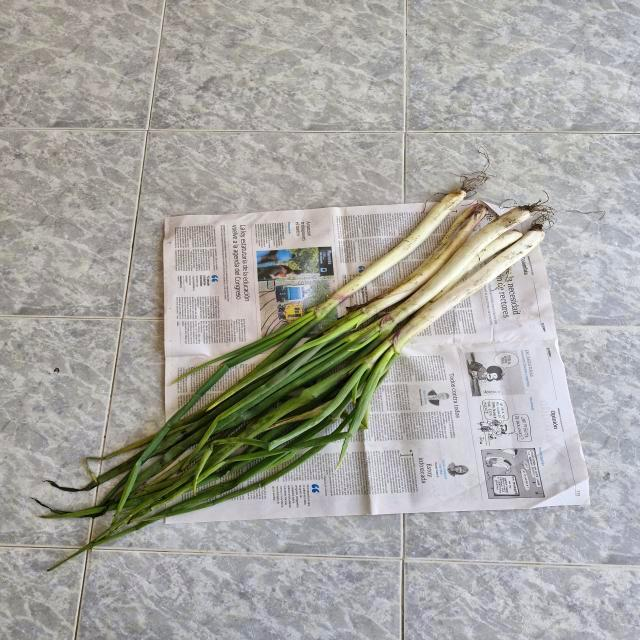green_onion: (211, 211, 560, 493), (179, 168, 471, 422)
